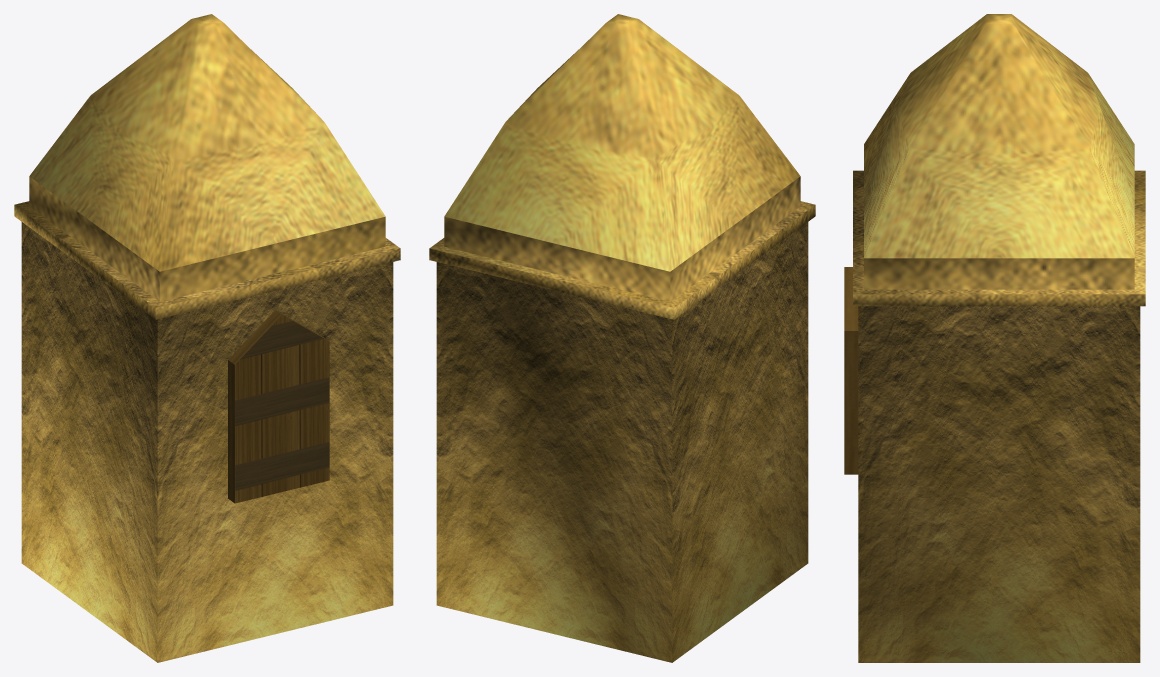
The model's file is BuildingTower.fbx.
The picture shows the model from 3 angles, left to right: view 1: azimuth 30°, elevation 25°; view 2: azimuth 150°, elevation 25°; view 3: azimuth 270°, elevation 25°; orthographic projection. The views are drawn at different scales.
Visible parts, largest first — view 1: pCube1; view 2: pCube1; view 3: pCube1.
Boxes of the visible parts, x1,y1,x2,y2 form: pCube1: (14,14,400,662); pCube1: (429,14,815,662); pCube1: (844,14,1145,662).
Bounding box in the file's own units: 2.91 × 6.39 × 2.99.
